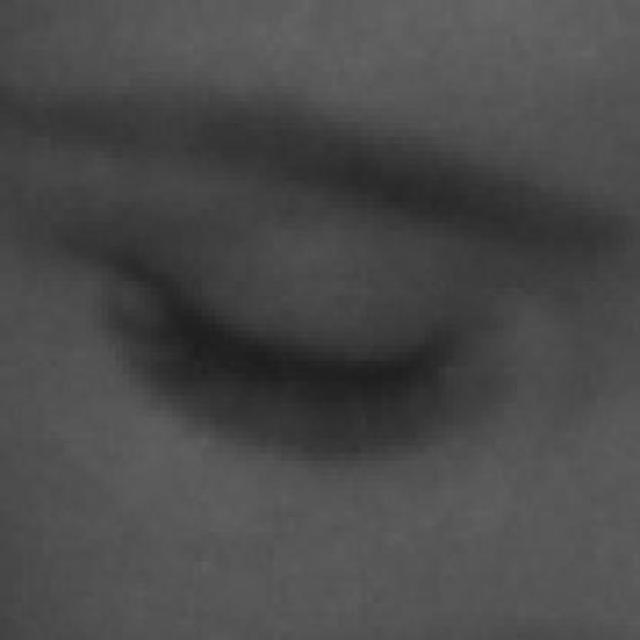drowsy: (113, 192, 464, 540)
